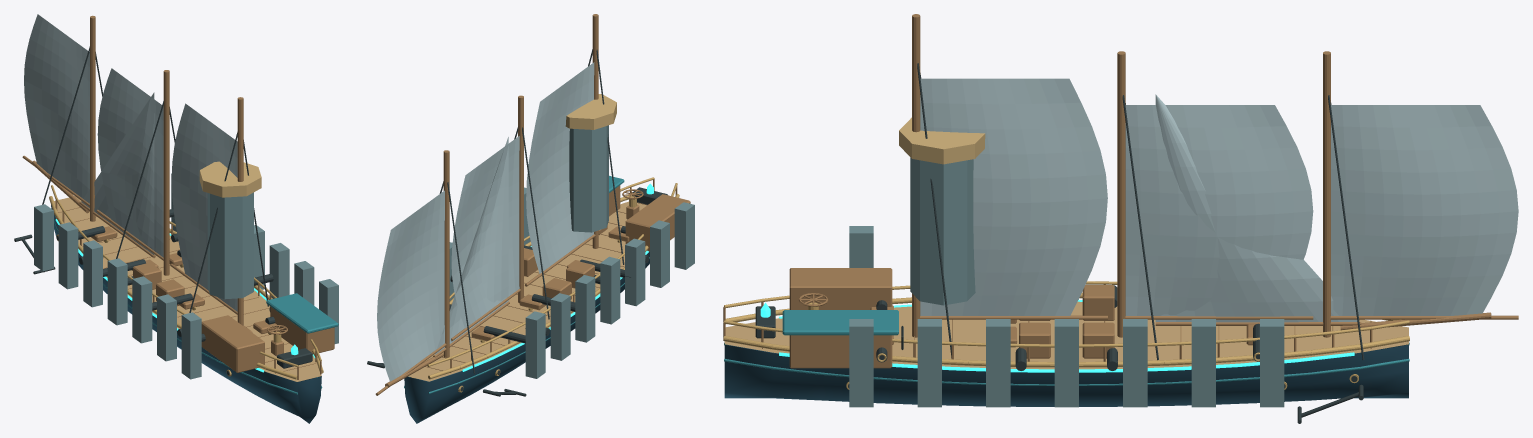
The model's file is premium_ghost_frigate.glb.
The picture shows the model from 3 angles, left to right: view 1: azimuth 30°, elevation 25°; view 2: azimuth 150°, elevation 25°; view 3: azimuth 270°, elevation 25°; orthographic projection. The views are drawn at different scales.
Visible parts, largest first — view 1: premium_ghost_frigate; view 2: premium_ghost_frigate; view 3: premium_ghost_frigate.
Part boxes in pixels (left/top/right/bottom): premium_ghost_frigate: left=14, top=14, right=338, bottom=423; premium_ghost_frigate: left=367, top=14, right=694, bottom=423; premium_ghost_frigate: left=723, top=14, right=1518, bottom=423.
Size of the model in its own units: 5.22 by 9.25 by 17.43.
